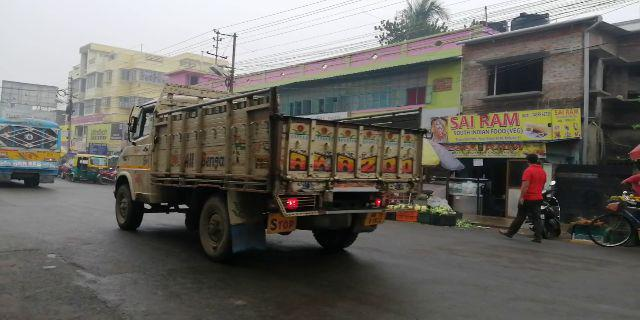Bus: (4, 120, 64, 183)
Truck: (109, 93, 427, 253)
